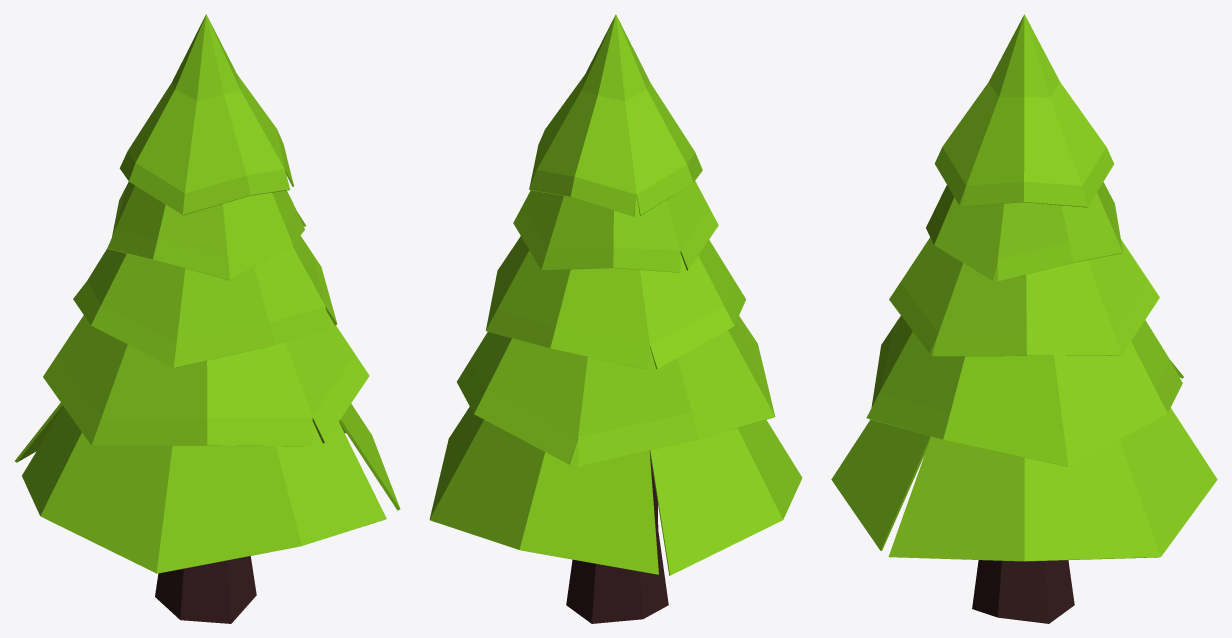
File: Tree_1.fbx
The picture shows the model from 3 angles, left to right: view 1: azimuth 30°, elevation 25°; view 2: azimuth 150°, elevation 25°; view 3: azimuth 270°, elevation 25°; orthographic projection.
Visible parts, largest first — view 1: Cylinder.002; view 2: Cylinder.002; view 3: Cylinder.002.
Part boxes in pixels (x1,y1,x2,y2): Cylinder.002: (14,14,400,623); Cylinder.002: (429,14,802,623); Cylinder.002: (831,14,1217,623).
Size of the model in its own units: 101 by 171 by 101.
